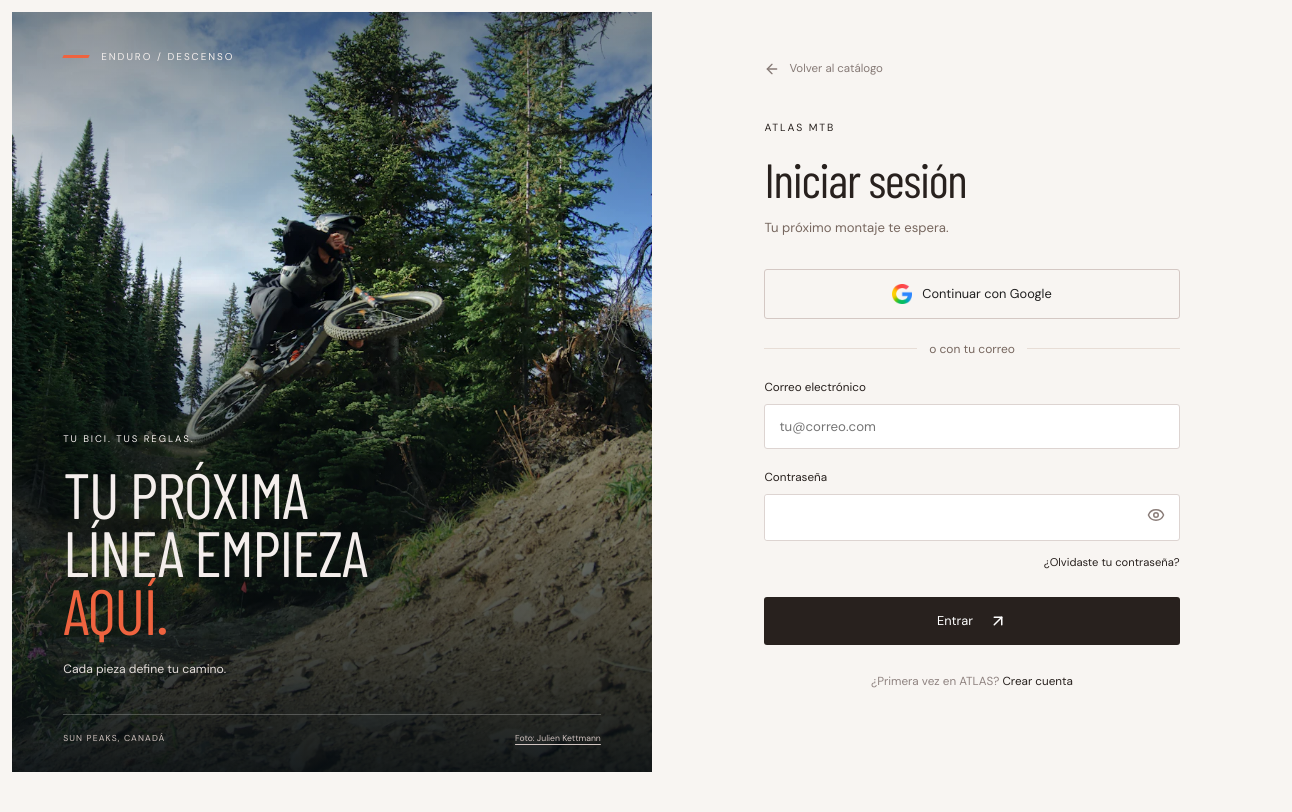
Scenario: starts Google from login without requiring password fields
This screenshot has width=1292, height=812.
Click the button "Continuar con Google": (972, 294) [764, 268, 1180, 318]
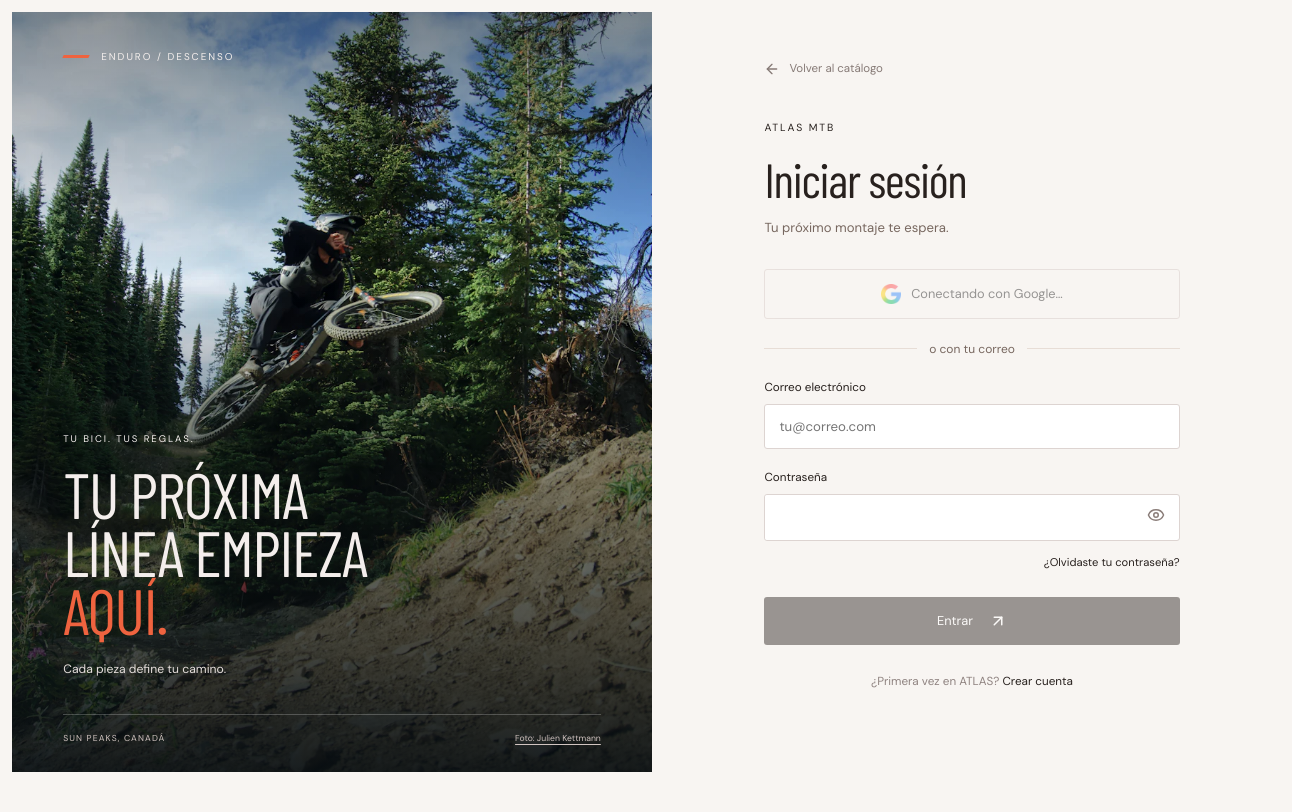
Now the button "Conectando con Google…" is disabled, box [764, 268, 1180, 318]
Now the button "Entrar" is disabled, box [764, 597, 1180, 645]
